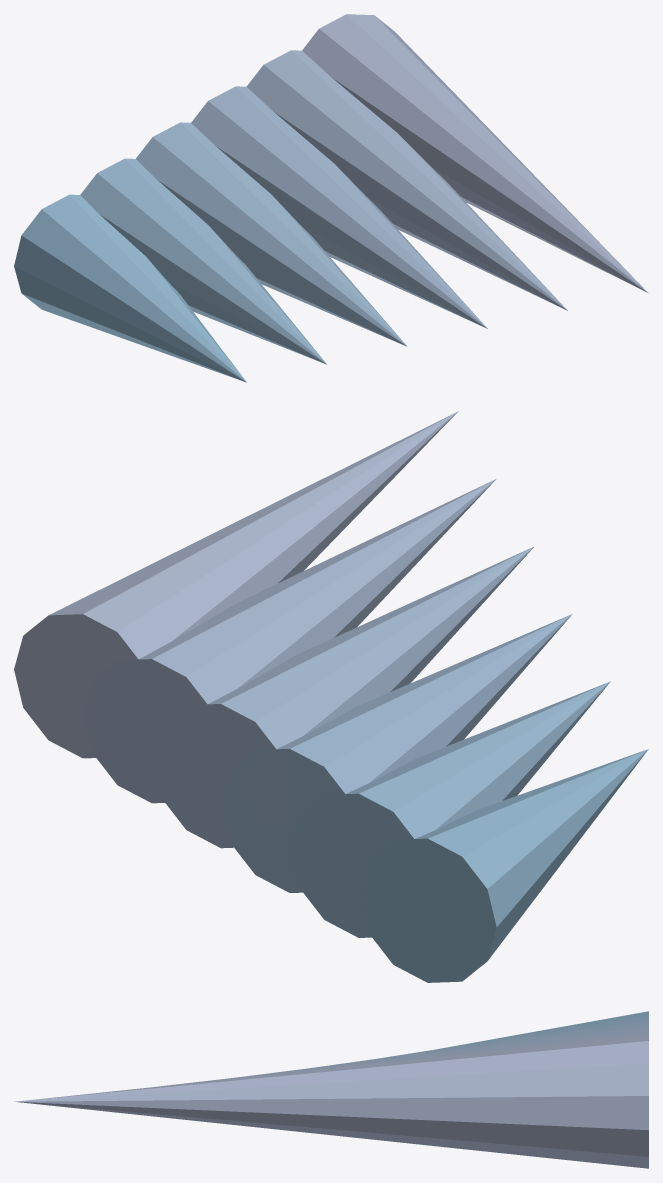
The model's file is world_06.glb.
3 views of the same model, one above another, from view 1: azimuth 30°, elevation 25°; view 2: azimuth 150°, elevation 25°; view 3: azimuth 270°, elevation 25° (orthographic). The views are drawn at different scales.
Parts seen in each view (by area): view 1: crystal_5, crystal_4, crystal, crystal_3, crystal_2, crystal_1; view 2: crystal_5, crystal_4, crystal_3, crystal, crystal_2, crystal_1; view 3: crystal_5, crystal_4, crystal_3, crystal_2, crystal_1, crystal.
Boxes of the visible parts, x1,y1,x2,y2 form: crystal_5: (302,14,647,292); crystal_4: (246,50,567,310); crystal: (14,194,246,382); crystal_3: (191,86,487,328); crystal_2: (136,122,407,346); crystal_1: (80,158,327,364); crystal_5: (14,411,458,758); crystal_4: (83,479,496,803); crystal_3: (152,546,534,848); crystal: (359,749,648,982); crystal_2: (221,614,572,892); crystal_1: (290,681,610,937); crystal_5: (14,1035,648,1168); crystal_4: (155,1030,648,1086); crystal_3: (239,1025,648,1077); crystal_2: (317,1020,648,1067); crystal_1: (378,1016,648,1058); crystal: (439,1011,648,1048).
Size of the model in its own units: 1.26 by 0.71 by 1.7.
